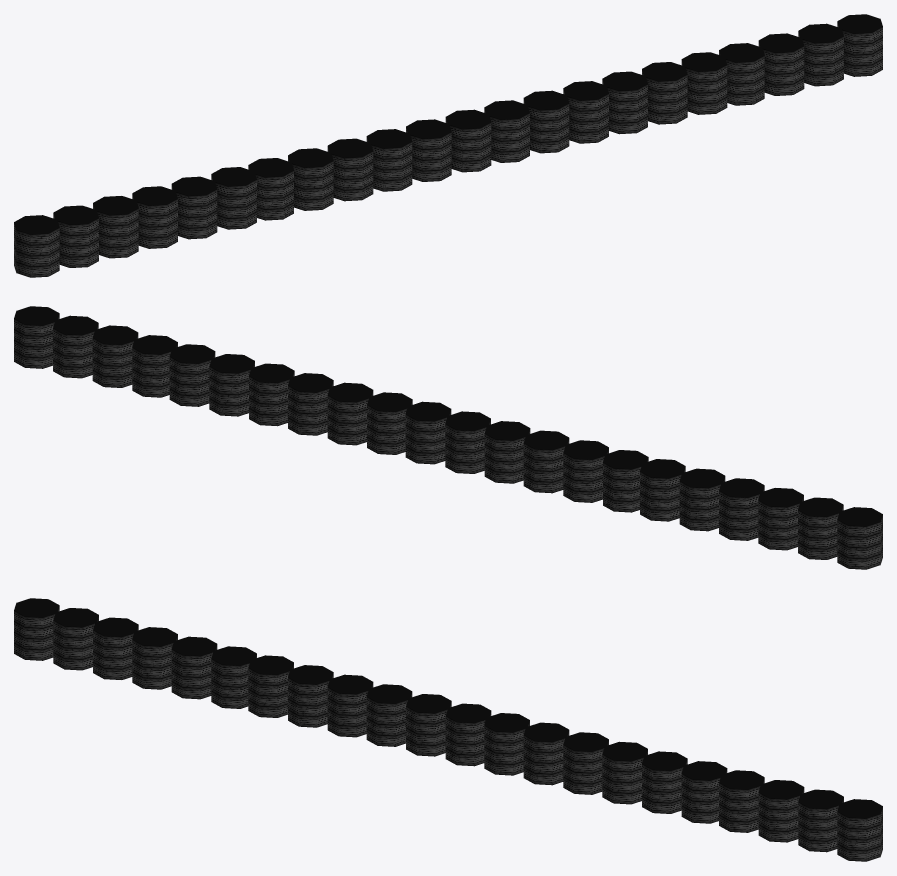
The model's file is tires.FBX.
The picture shows the model from 3 angles, top to bottom: view 1: azimuth 30°, elevation 25°; view 2: azimuth 150°, elevation 25°; view 3: azimuth 330°, elevation 25°; orthographic projection.
Parts seen in each view (by area): view 1: tires; view 2: tires; view 3: tires.
Boxes of the visible parts, x1,y1,x2,y2 form: tires: [14, 14, 882, 277]; tires: [14, 306, 882, 569]; tires: [14, 598, 882, 861].
Size of the model in its own units: 470 by 22.55 by 22.28.
